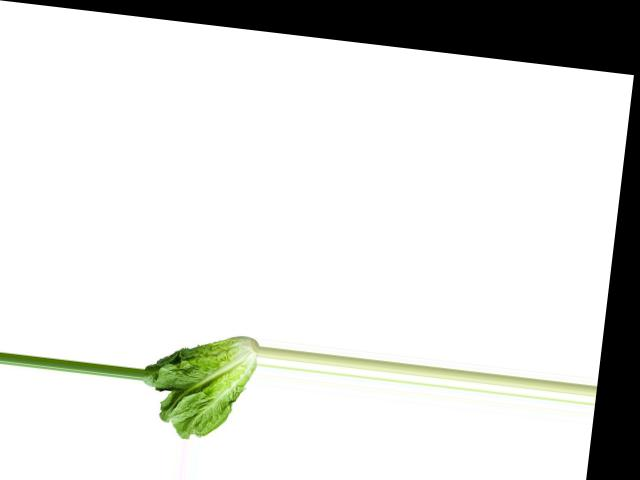lettuce: (139, 324, 259, 447)
